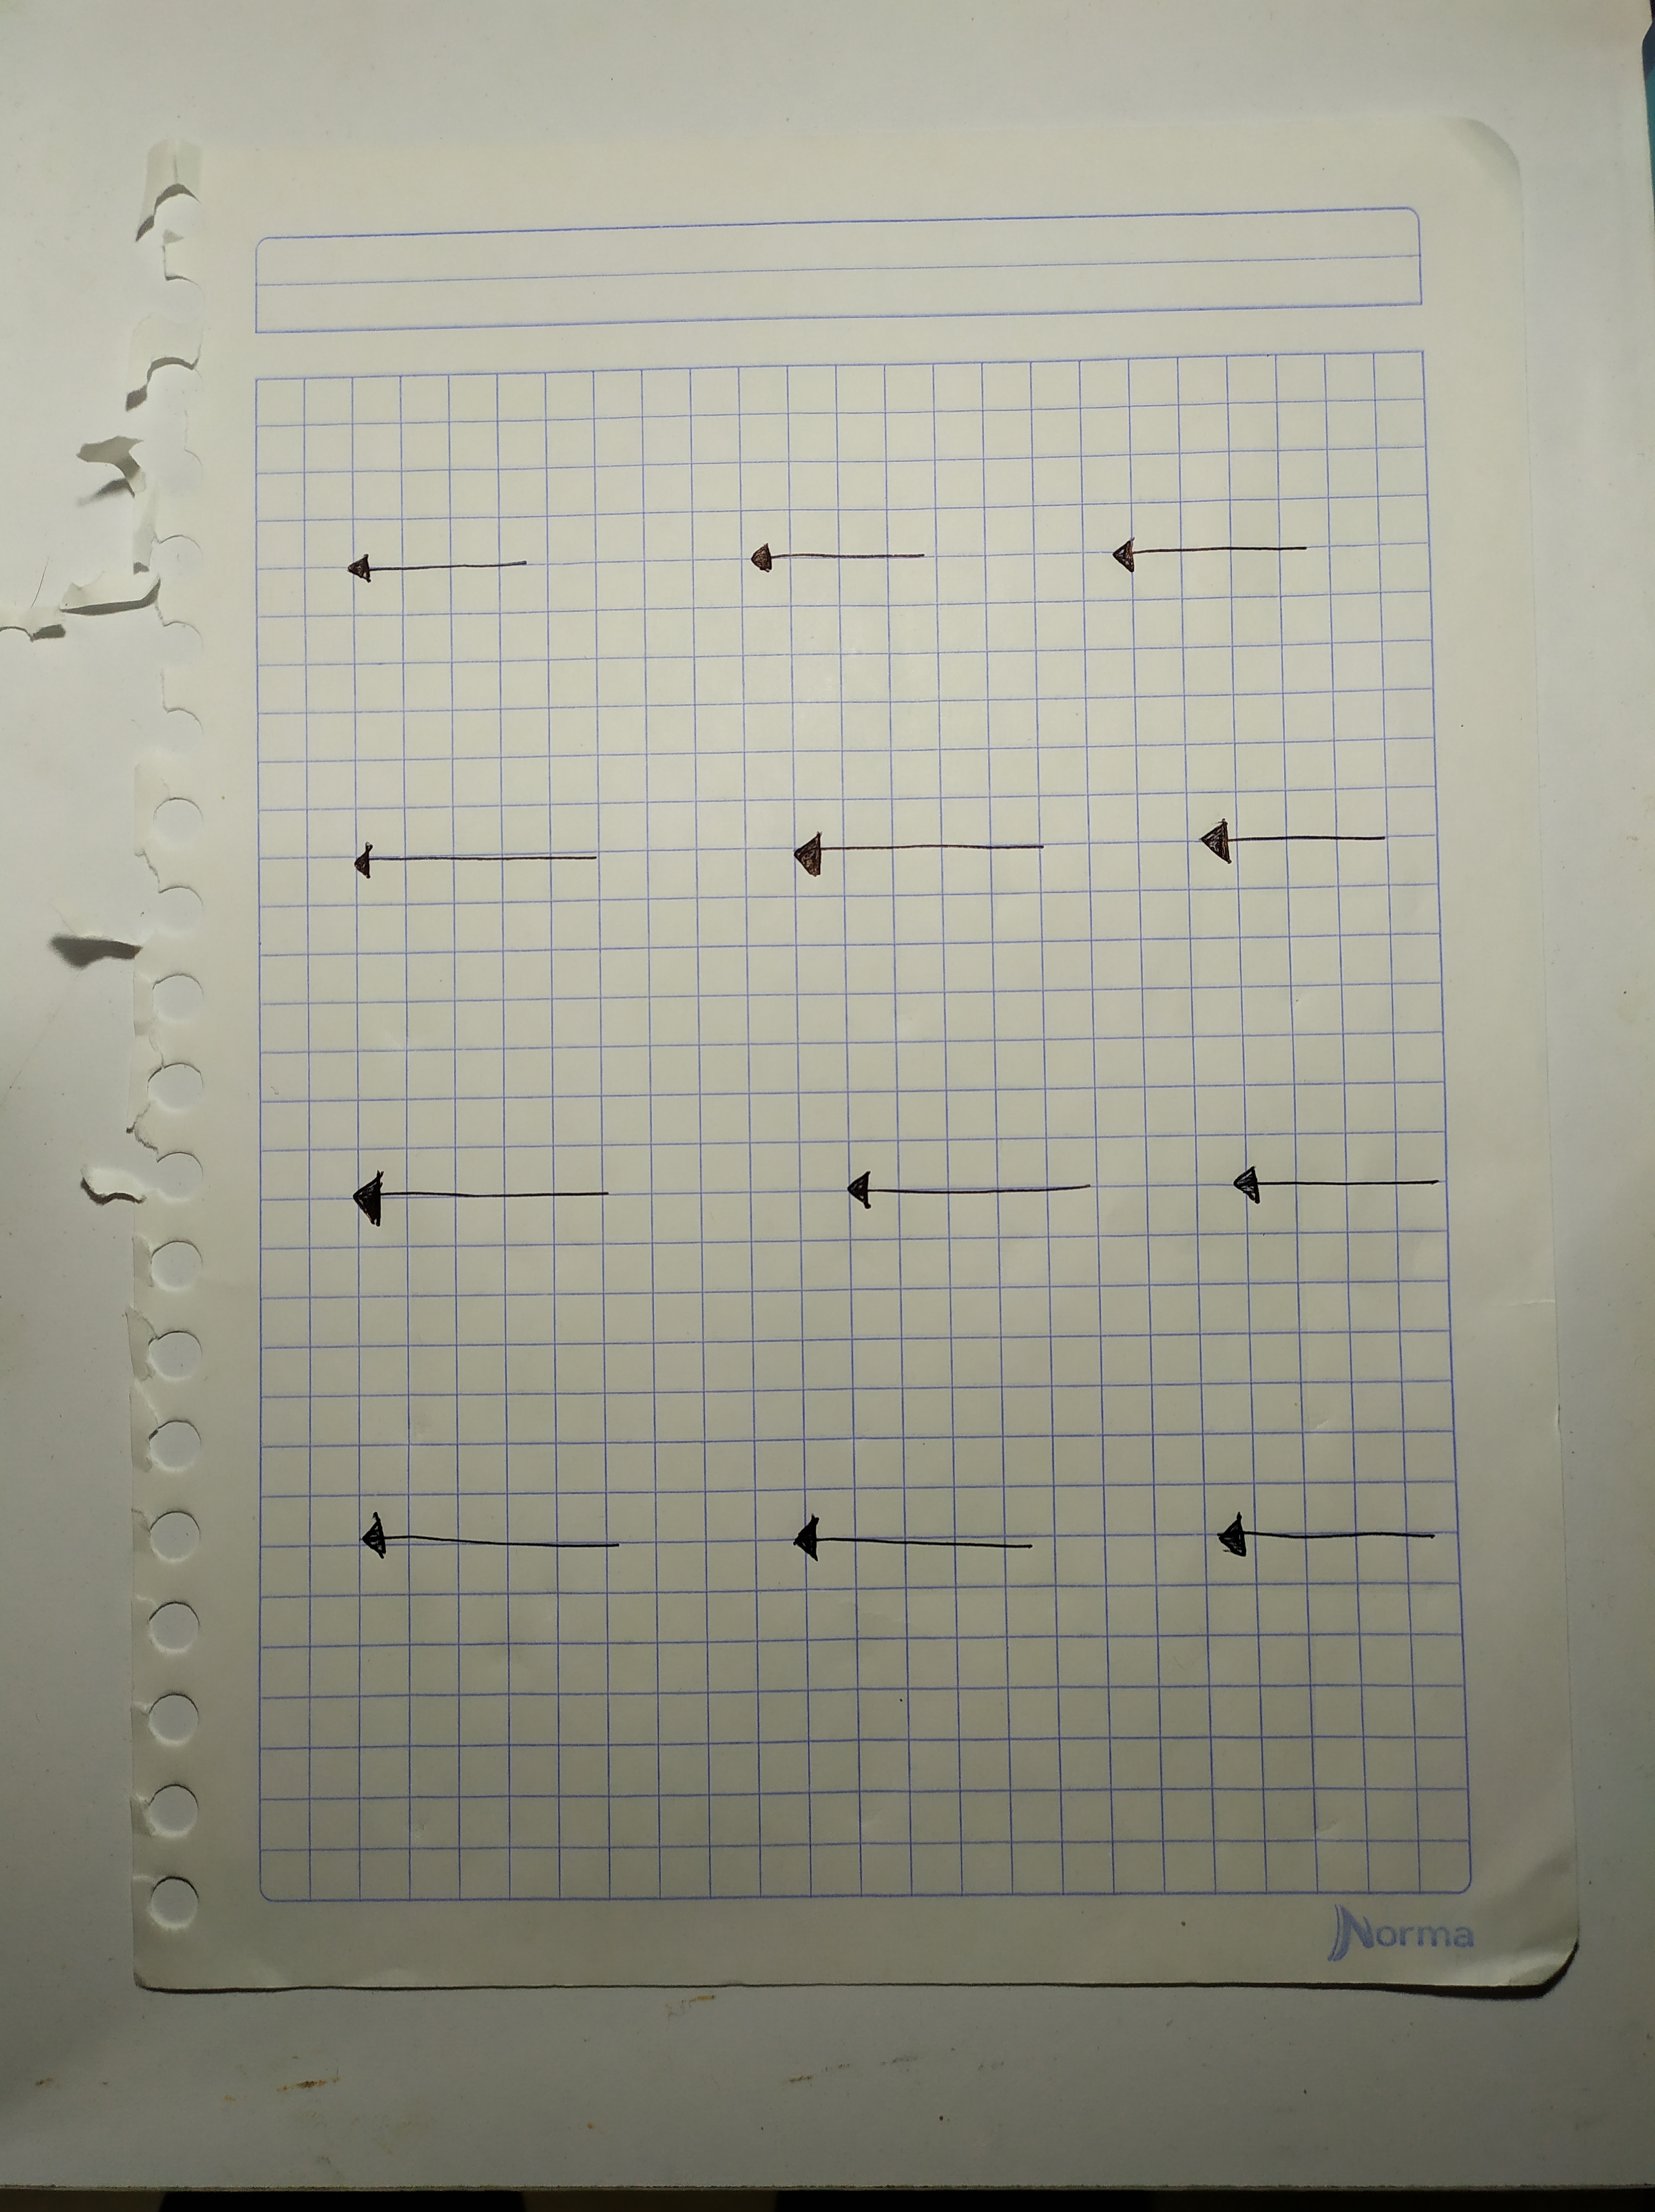arrow_line_left: (758, 1487, 1083, 1606), (1161, 1486, 1464, 1604), (334, 1496, 662, 1592), (318, 825, 678, 900), (753, 815, 1076, 897), (1196, 1147, 1471, 1237), (330, 1164, 636, 1239), (807, 1166, 1133, 1230), (1168, 801, 1422, 883), (1085, 523, 1353, 594), (323, 528, 565, 605), (716, 528, 953, 593)
